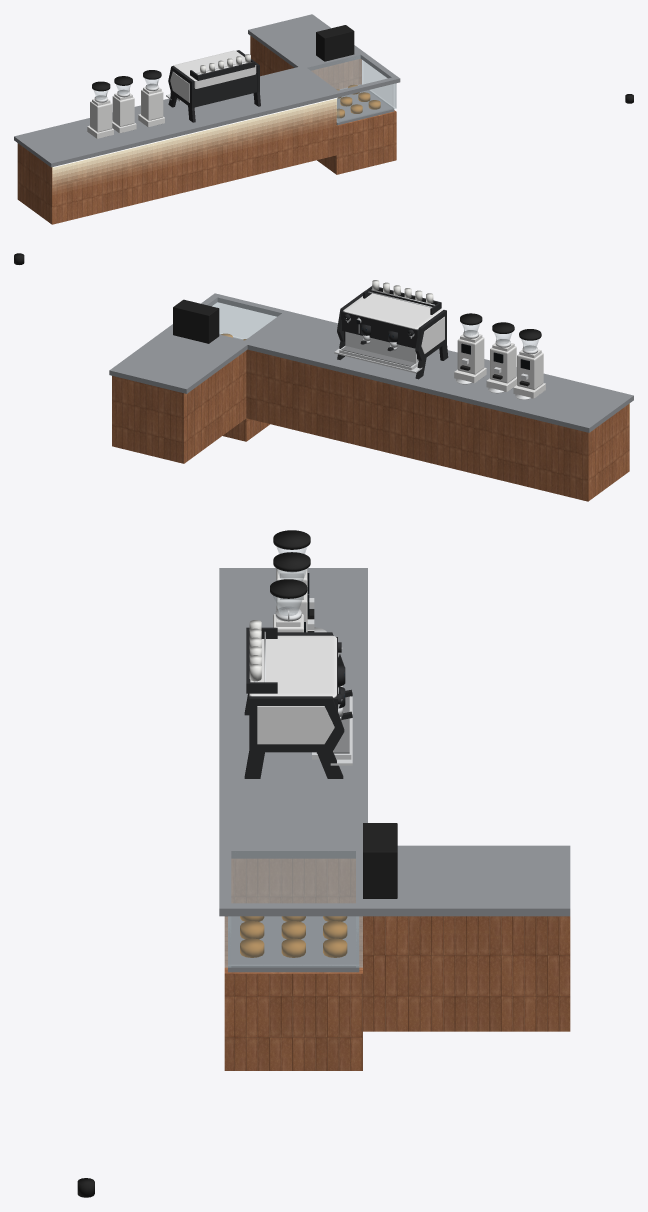
Rendered from walk-bar.b030f272f8.glb.
The picture shows the model from 3 angles, top to bottom: view 1: azimuth 30°, elevation 25°; view 2: azimuth 150°, elevation 25°; view 3: azimuth 270°, elevation 25°; orthographic projection. The views are drawn at different scales.
Visible parts, largest first — view 1: bar, bar_top, bar_glow (×6), cab_pedestal, bar_leg_top, bar_leg, pastry_glass, cab_glass_f, espresso_hood, pos, espresso_body, cab_glass_b (+12 smaller); view 2: bar, bar_top, bar_leg, bar_leg_top, espresso_hood, pos, pastry_glass, cab_glass_f, espresso_bar_black, espresso_front_steel, grinder_body.002, grinder_body (+6 smaller); view 3: bar_top, bar_leg, cab_pedestal, bar_leg_top, cab_glass_r, pastry_glass, bar, cab_glass_l, cab_tray, espresso_hood, espresso_side_white.001, pos (+3 smaller).
Part boxes in pixels (<box>): bar: <box>17,99,336,224</box>; bar_top: <box>14,66,340,167</box>; bar_glow (×6): <box>52,98,336,187</box>; cab_pedestal: <box>317,110,396,174</box>; bar_leg_top: <box>248,14,362,67</box>; bar_leg: <box>250,36,361,89</box>; pastry_glass: <box>308,55,390,90</box>; cab_glass_f: <box>337,84,396,122</box>; espresso_hood: <box>174,50,256,88</box>; pos: <box>316,25,354,61</box>; espresso_body: <box>194,72,256,107</box>; cab_glass_b: <box>312,59,359,89</box>; bar: <box>246,349,629,501</box>; bar_top: <box>244,311,633,432</box>; bar_leg: <box>112,351,246,463</box>; bar_leg_top: <box>109,325,247,393</box>; espresso_hood: <box>343,293,442,329</box>; pos: <box>173,299,219,343</box>; pastry_glass: <box>208,298,281,340</box>; cab_glass_f: <box>219,303,275,338</box>; espresso_bar_black: <box>341,311,418,348</box>; espresso_front_steel: <box>345,331,417,363</box>; grinder_body.002: <box>457,337,484,374</box>; grinder_body: <box>517,352,543,389</box>; bar_top: <box>219,568,367,849</box>; bar_leg: <box>363,916,570,1031</box>; cab_pedestal: <box>224,916,362,1070</box>; bar_leg_top: <box>363,845,570,916</box>; cab_glass_r: <box>225,916,362,967</box>; pastry_glass: <box>231,851,355,902</box>; bar: <box>231,859,355,902</box>; cab_glass_l: <box>231,859,355,902</box>; cab_tray: <box>228,916,359,972</box>; espresso_hood: <box>249,635,336,697</box>; espresso_side_white.001: <box>257,706,334,744</box>; pos: <box>363,823,397,898</box>.
Bounding box in the file's own units: 7.33 × 1.7 × 2.85.
Materials: 26 (1 with a texture image).
